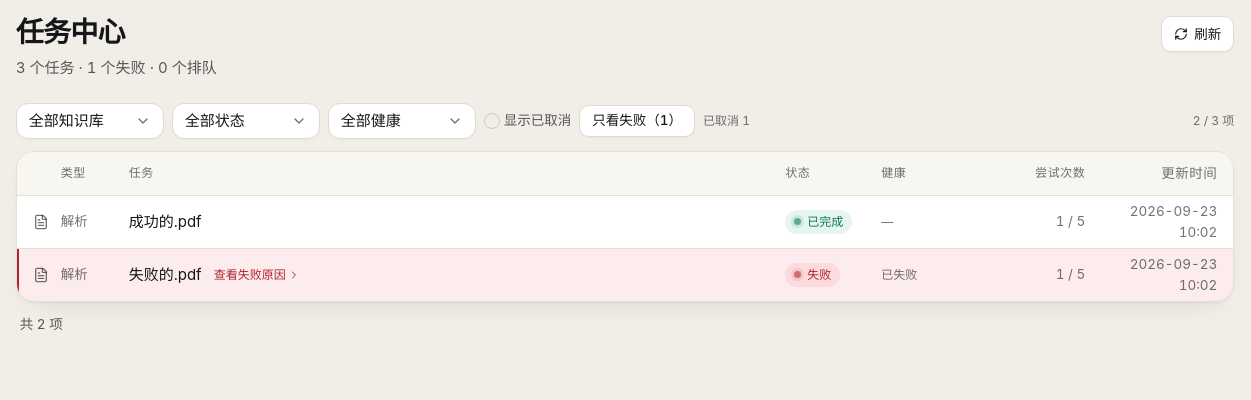
it: 任务中心 › 终态行的「健康」只在有新判断时写词：成功/已取消是不带词的记号，失败仍是「已失败」（评审 T2 / 第三批 A②）
Expected: the text "成功的.pdf" is shown, [129, 210, 202, 234]
已取消默认不显示，点开才看得到那一行（失败/取消同属 done 档，要一起核）
Click the checkbox named "显示已取消".
click(492, 121)  # box [484, 113, 500, 129]
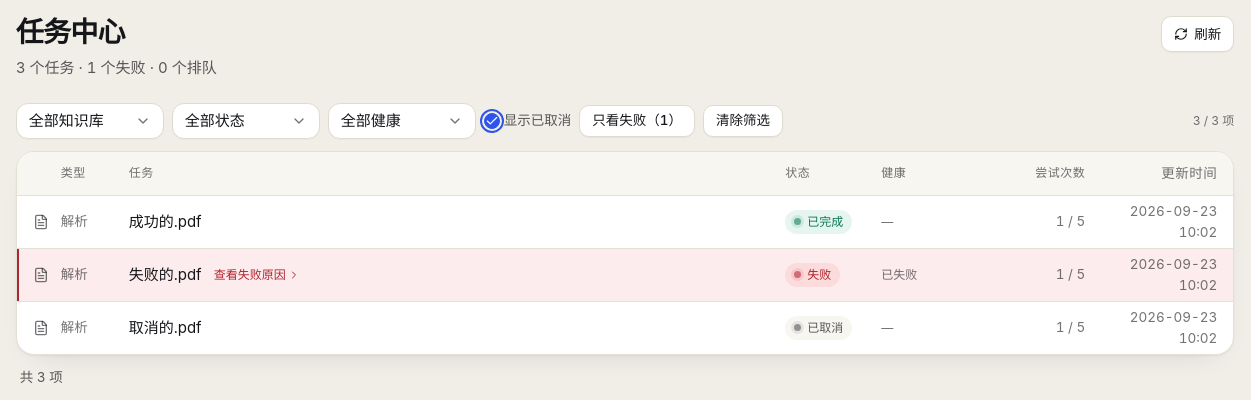
Expected: the text "已完成" is shown once, [785, 210, 852, 234]
Result: the text "已取消" is shown once at [785, 316, 852, 340]
Result: the number of pictures named "健康" is 2 at [881, 214, 893, 228]; [881, 320, 893, 334]
